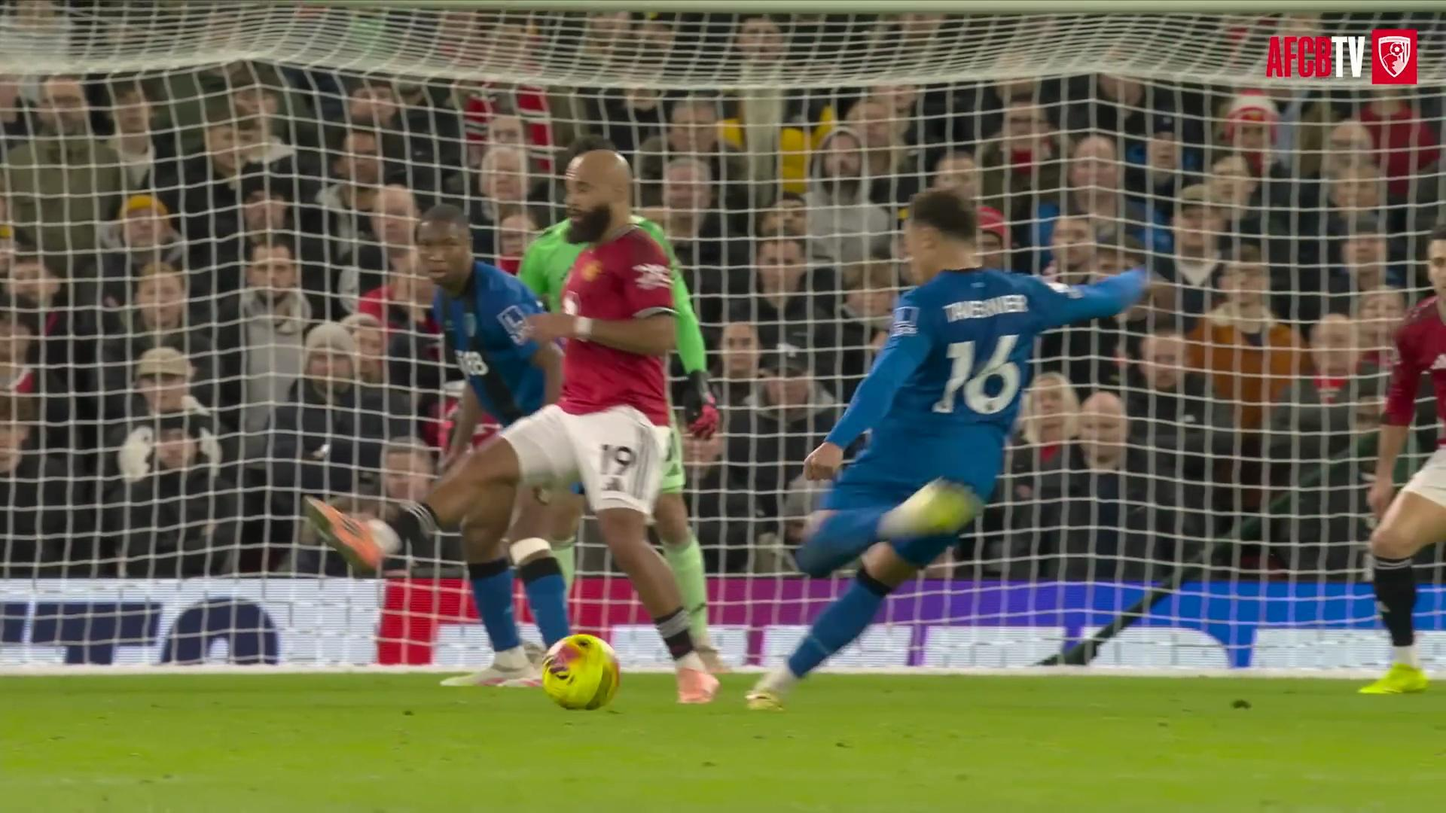football: (542, 635, 620, 709)
player: (313, 151, 717, 702), (748, 190, 1146, 708), (1361, 227, 1445, 693), (444, 487, 569, 686), (653, 423, 725, 670)
